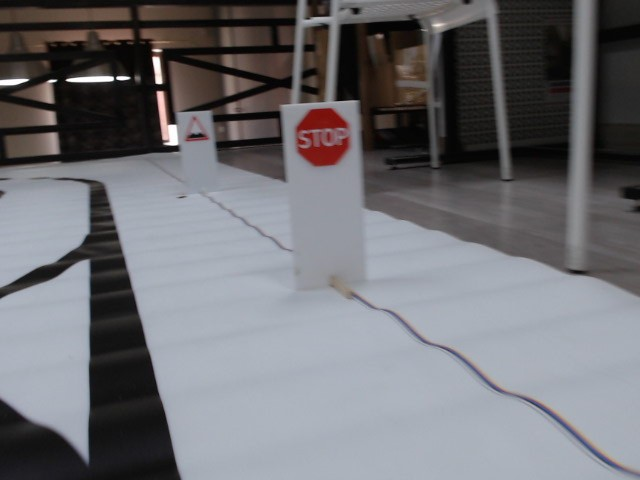Nerov: (183, 116, 212, 144)
Stop: (294, 106, 351, 168)
